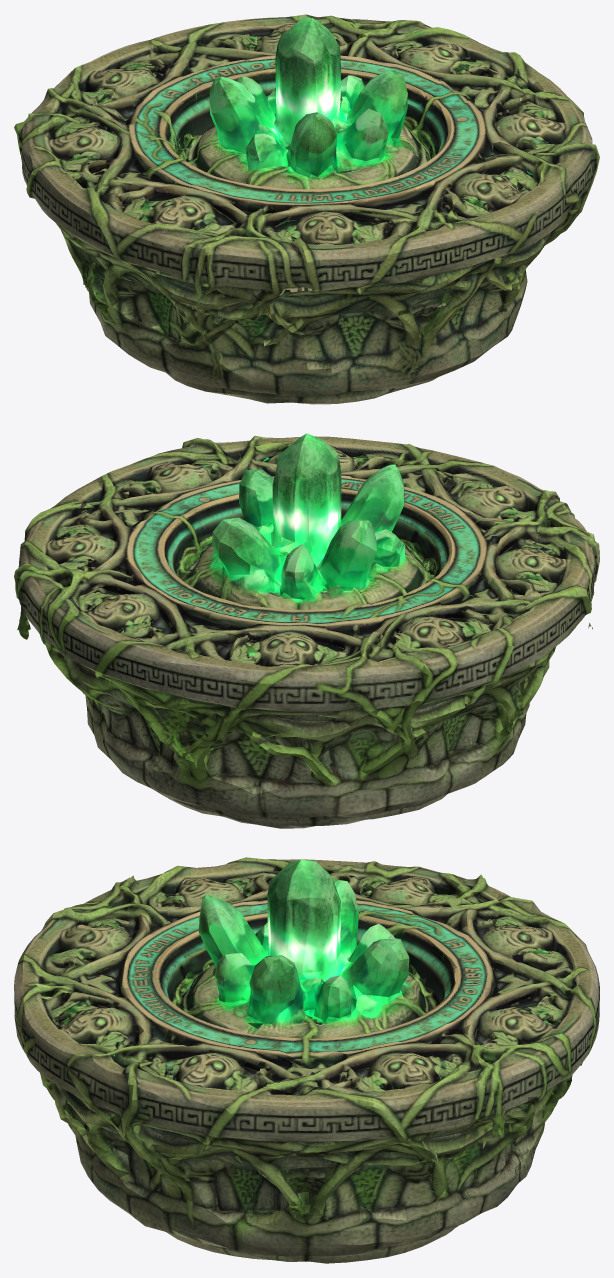
The model's file is bumper_lvl_1.glb.
3 renders of one model, top to bottom at view 1: azimuth 30°, elevation 25°; view 2: azimuth 150°, elevation 25°; view 3: azimuth 270°, elevation 25°, orthographic. The views are drawn at different scales.
Parts seen in each view (by area): view 1: Mesh0.001; view 2: Mesh0.001; view 3: Mesh0.001.
Boxes of the visible parts, x1,y1,x2,y2 form: Mesh0.001: (14, 14, 599, 404); Mesh0.001: (14, 433, 599, 828); Mesh0.001: (14, 857, 599, 1263).
Bounding box in the file's own units: 0.108 × 0.0677 × 0.108.
1 material, 1 textured.
